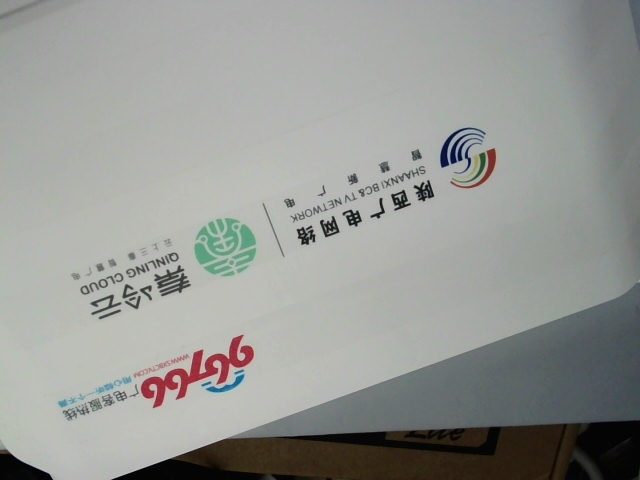AE_QinLing: (44, 207, 260, 325)
